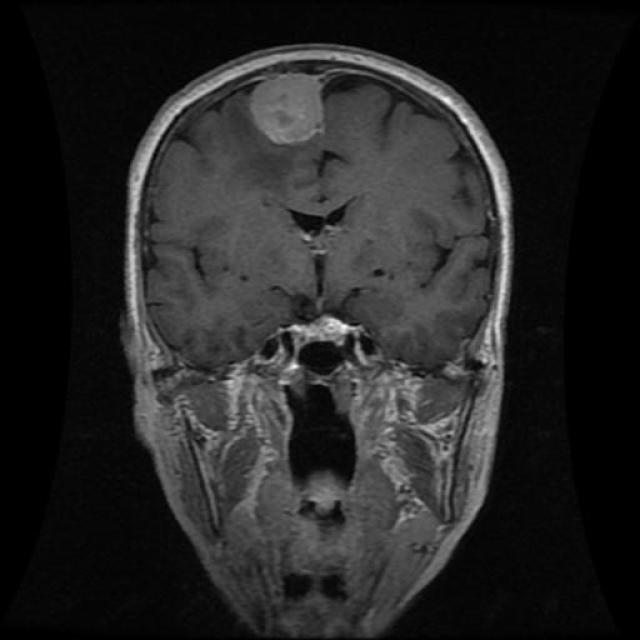meningioma: (249, 75, 324, 146)
